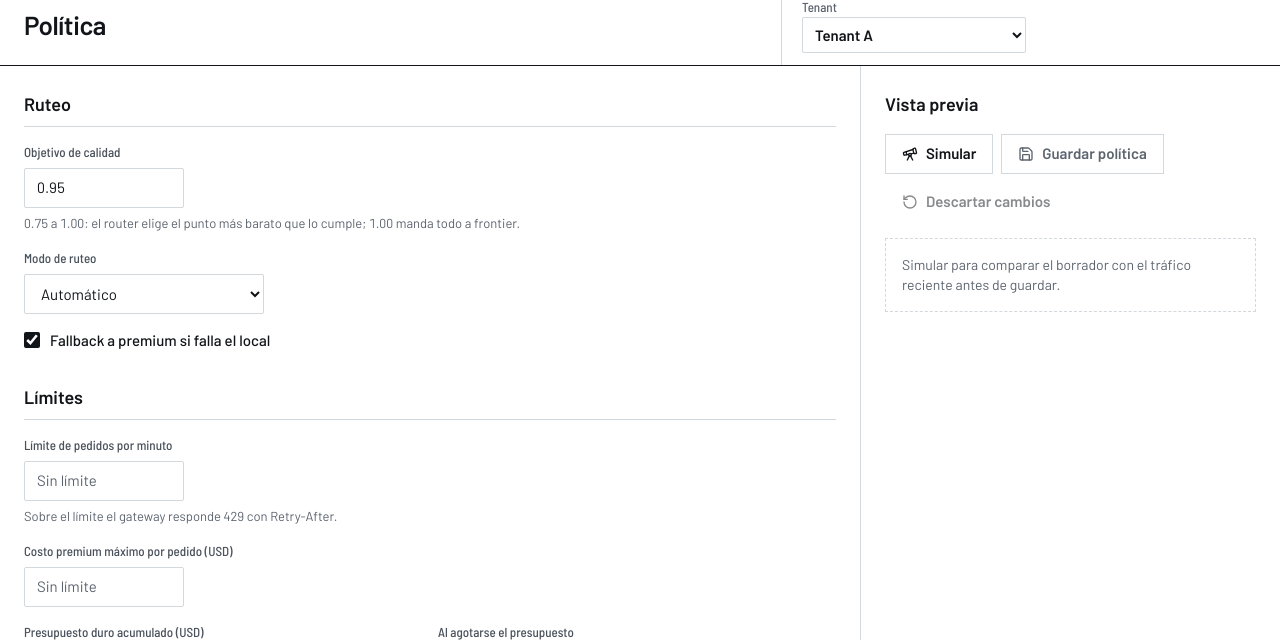
Test: policy-page › clears stale preview evidence after a successful save
Expected: the heading "Vista previa" is shown, [885,90,978,118]
Select "Solo premium" in the dropdown labelled "Modo de ruteo" at {"x": 144, "y": 294}, box [24,274,264,314]
(page scrolled)
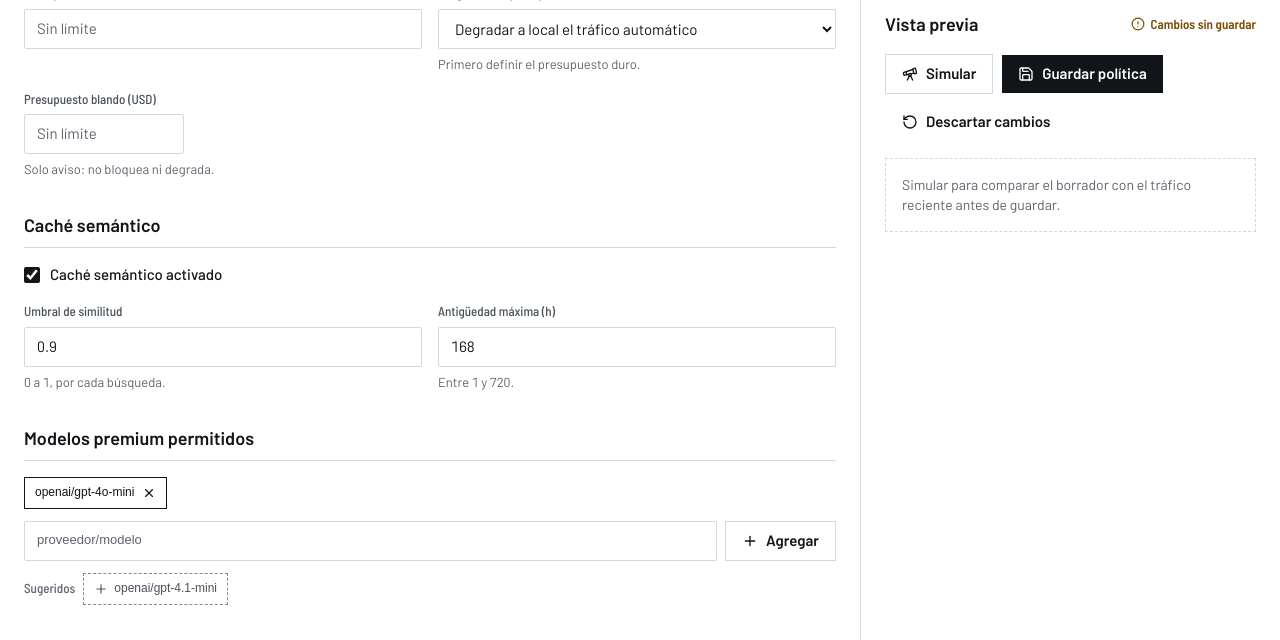
Replace the text in the field labelled "Umbral de similitud" with "0.82" at {"x": 223, "y": 347}, box [24,327,422,367]
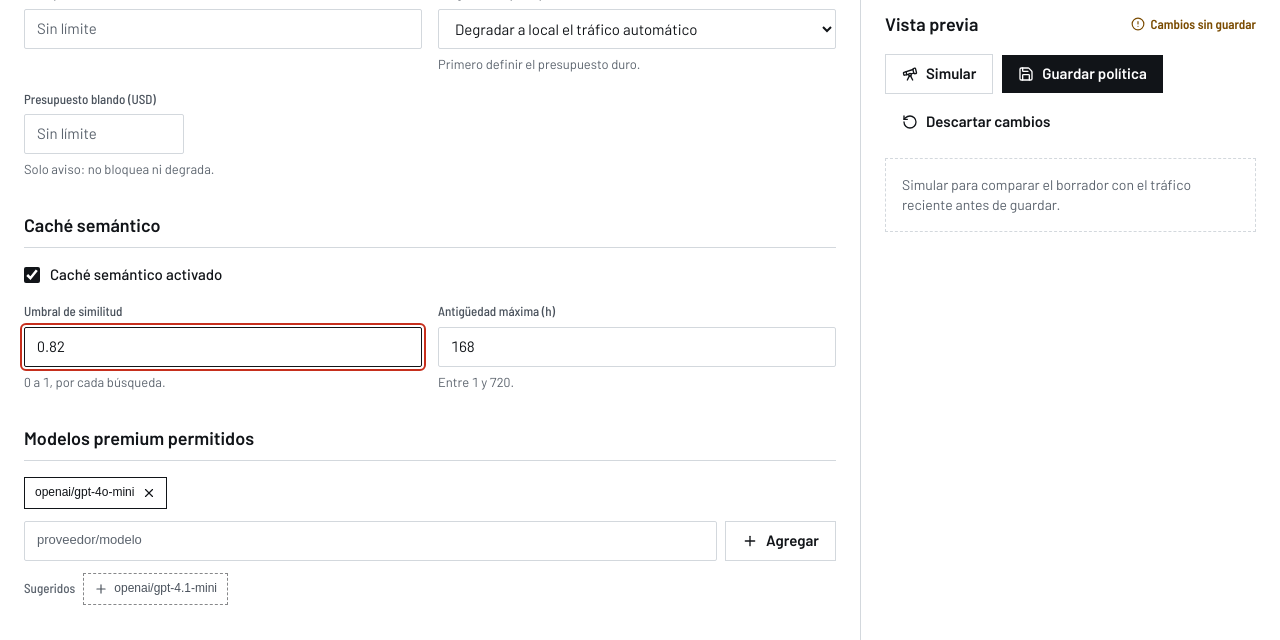
Replace the text in the field labelled "Antigüedad máxima (h)" with "48" at {"x": 637, "y": 347}, box [438,327,836,367]
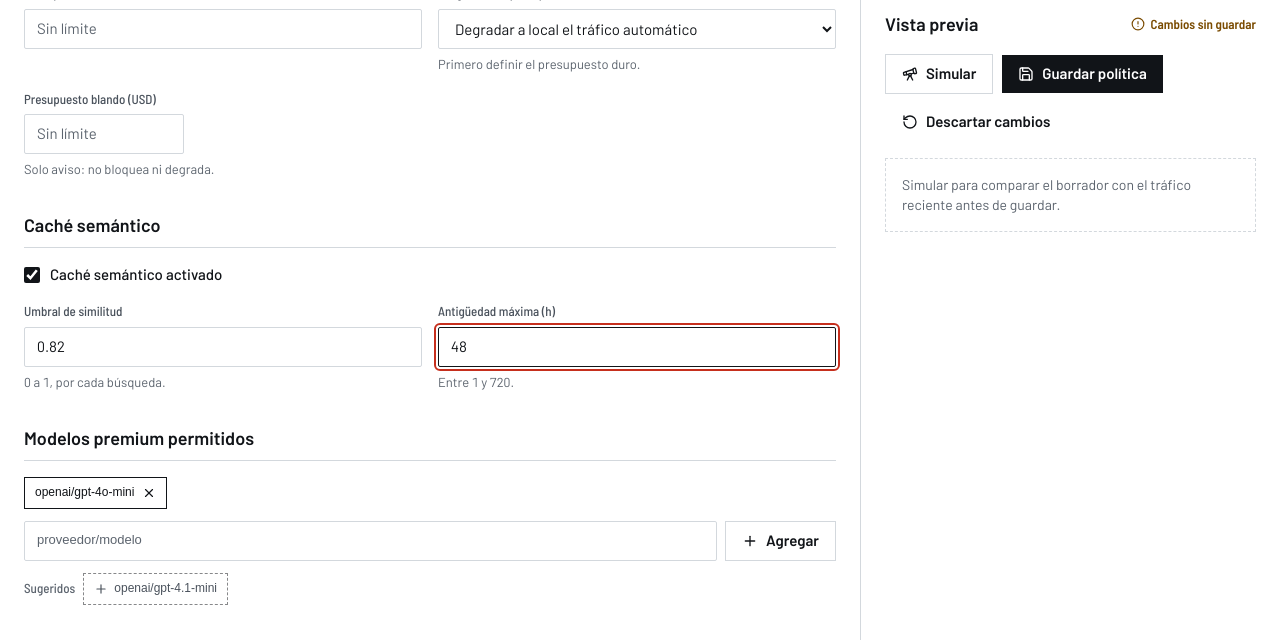
Click the button "Simular" at {"x": 939, "y": 74}, box [885,54,993,94]
(page scrolled)
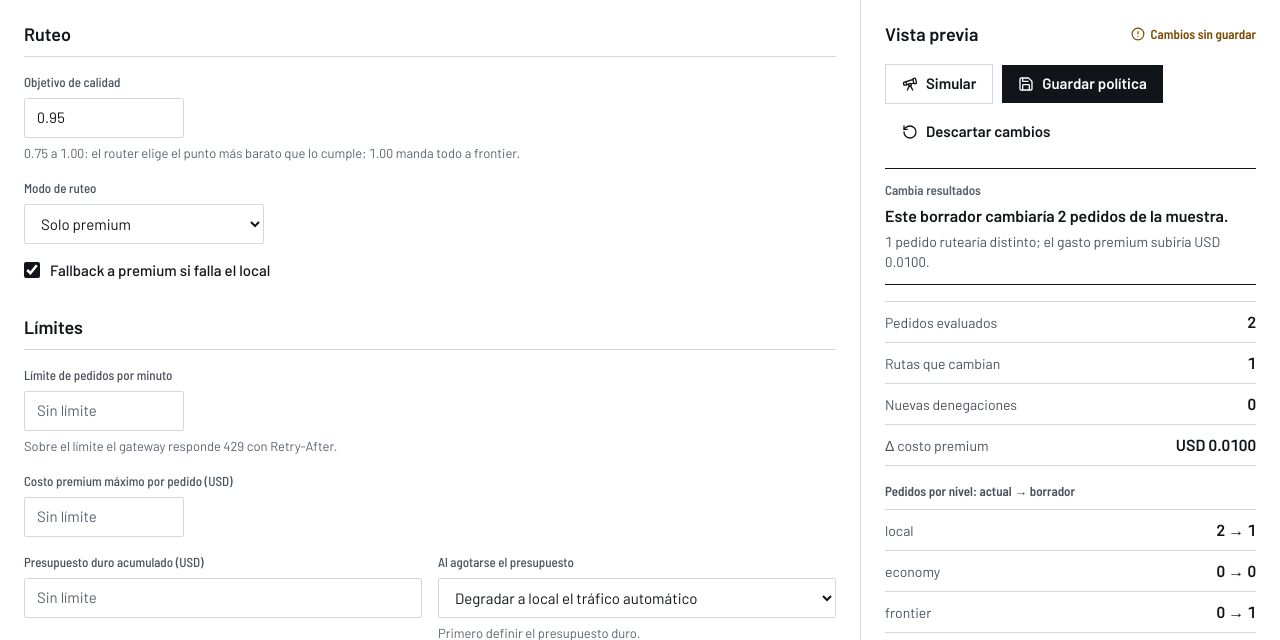
Click the button "Guardar política" at {"x": 1083, "y": 84}, box [1001,64,1164,104]
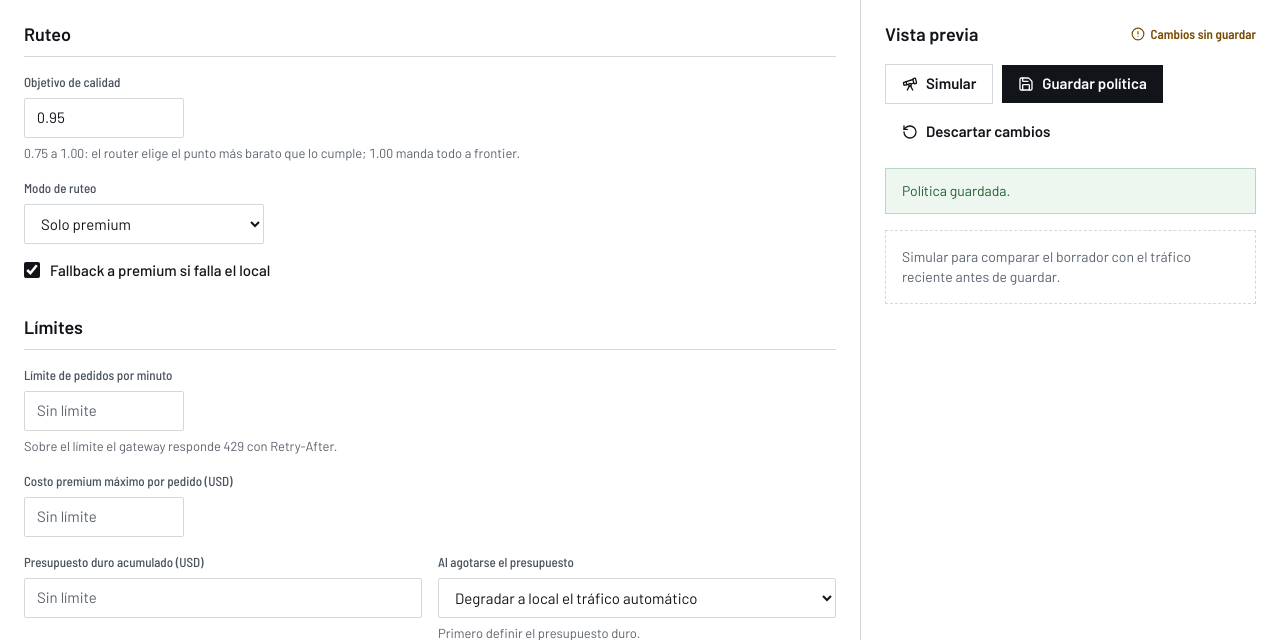
Expected: the text "Simular para comparar el borrador con el tráfico reciente antes de guardar." is shown, [885,230,1256,304]
